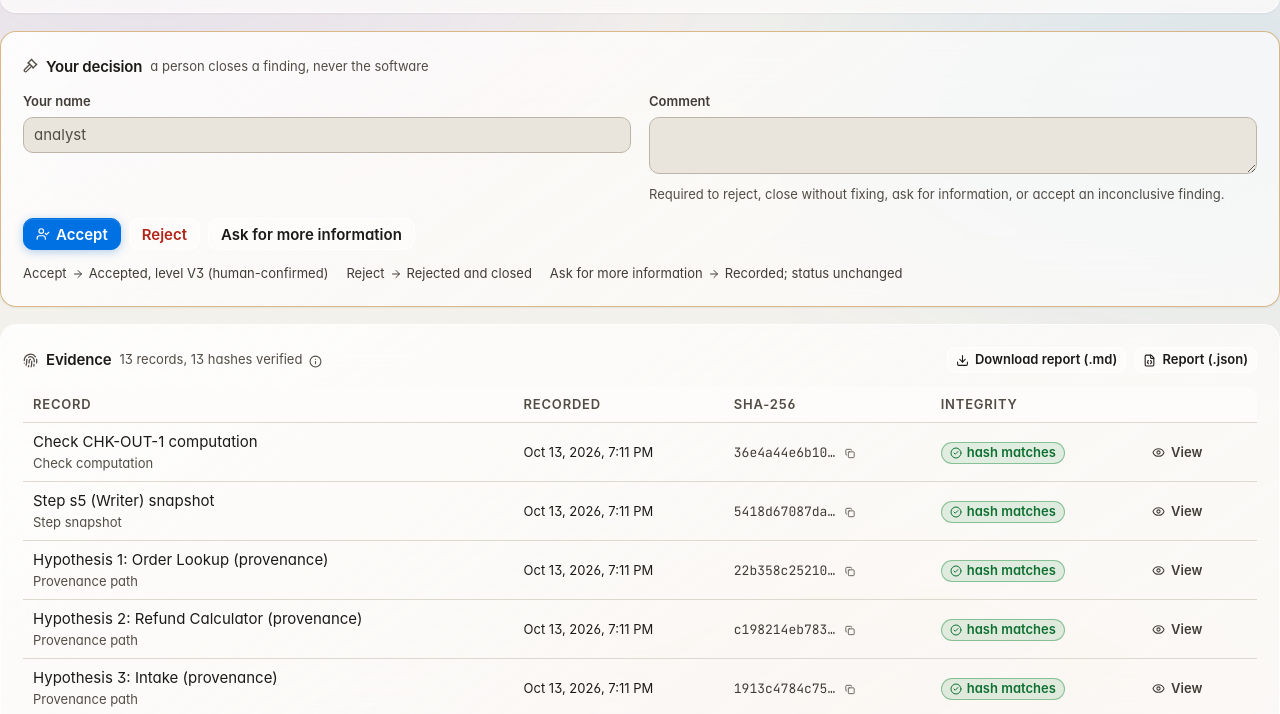
Test: evidence ledger › says so when the report cannot be created
(page scrolled)
Step 1. Click the button "Download report (.md)" → (1037, 360), box [947, 347, 1126, 373]
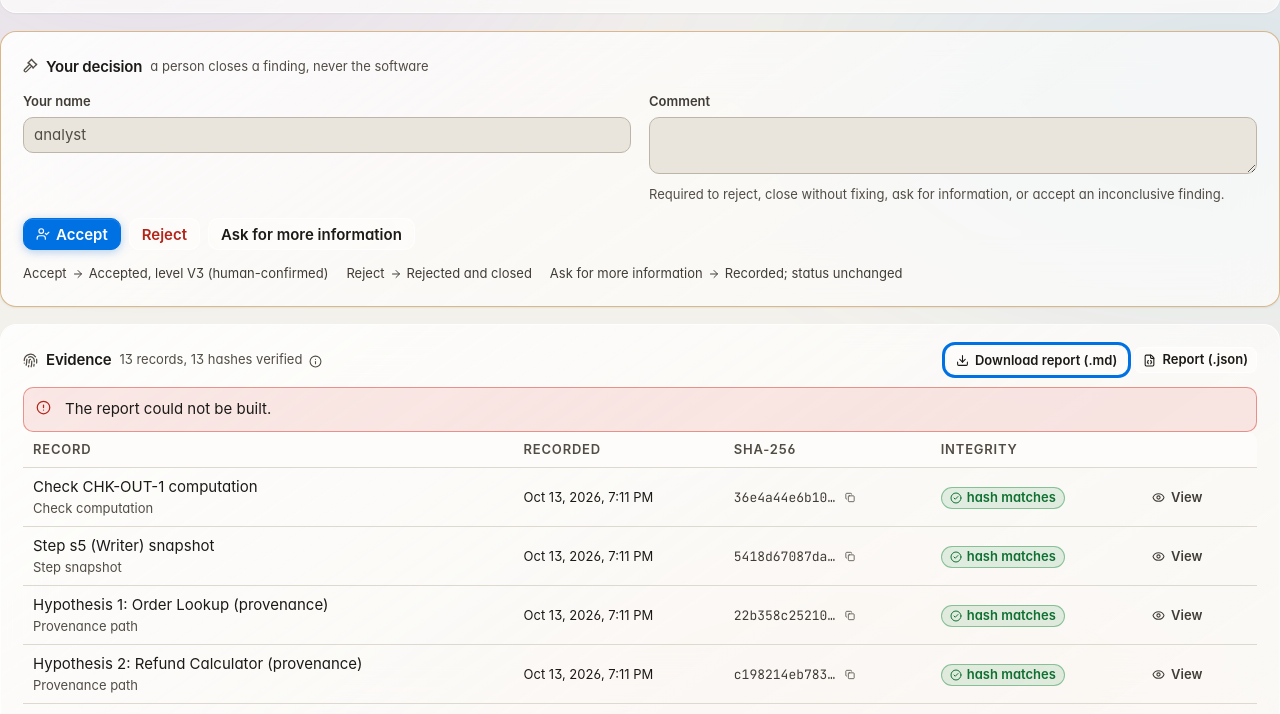
Expected: the text "The report could not be built." is shown, [65, 399, 271, 418]
